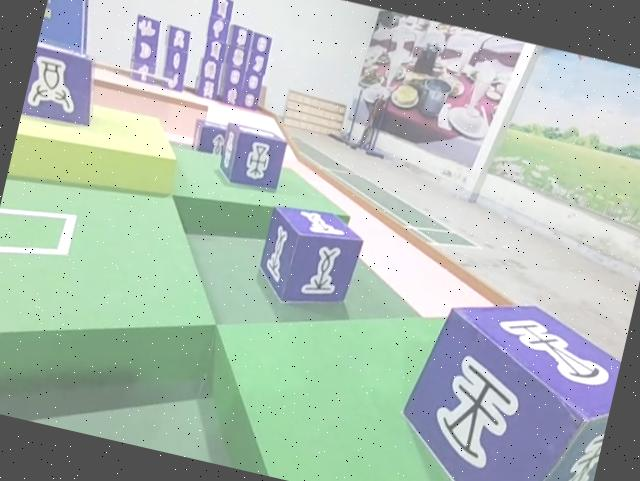R2 Real Blue: (385, 276, 630, 481), (250, 201, 367, 320), (20, 43, 104, 134), (212, 119, 289, 194)
